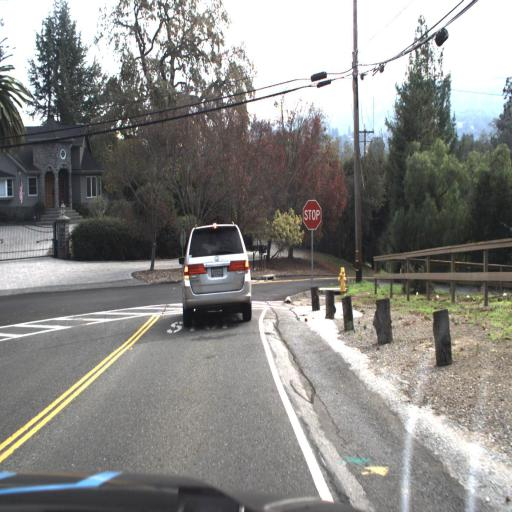car: (174, 220, 257, 328)
